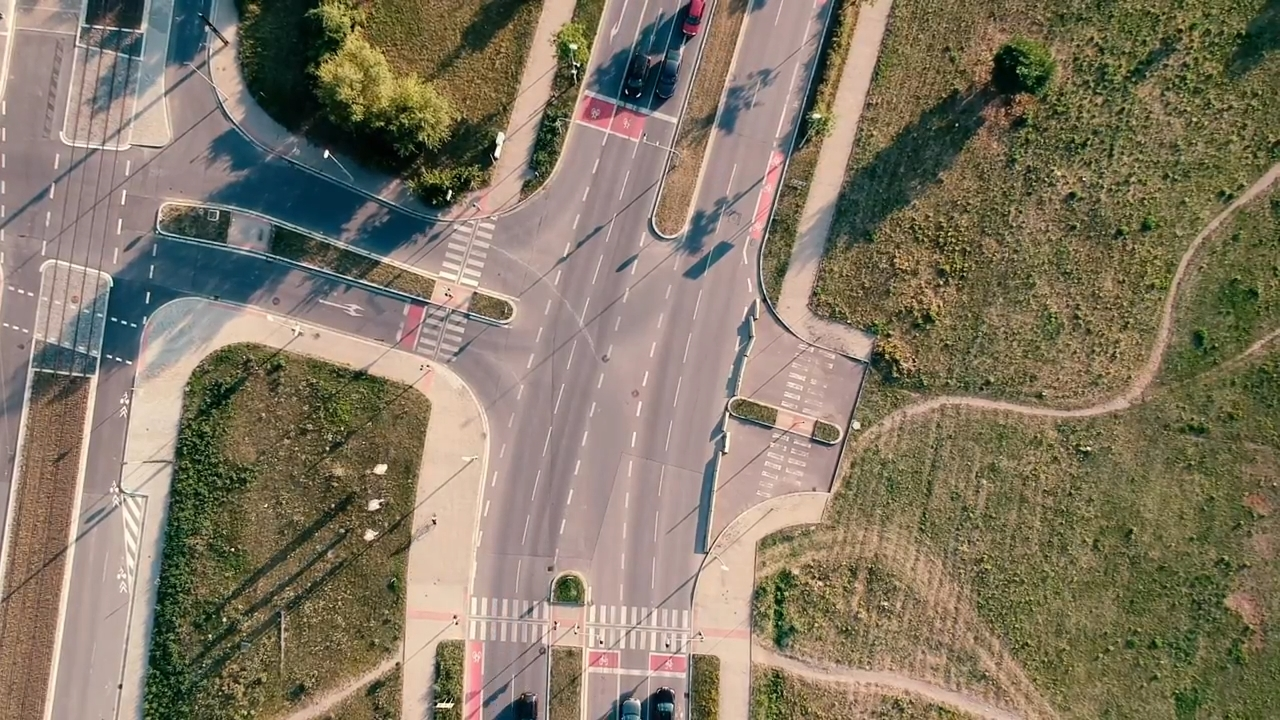car: (653, 48, 683, 100), (626, 53, 648, 97), (680, 1, 705, 38), (654, 685, 676, 720), (518, 690, 538, 720), (619, 697, 641, 720)
